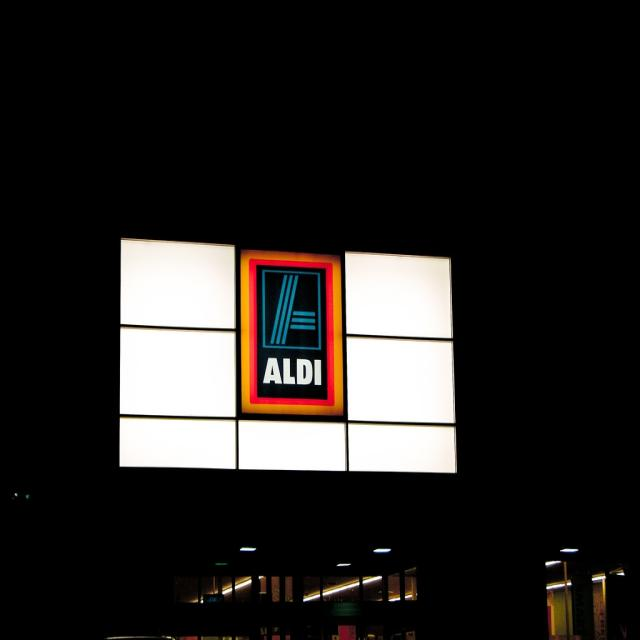aldi: (242, 252, 344, 416)
